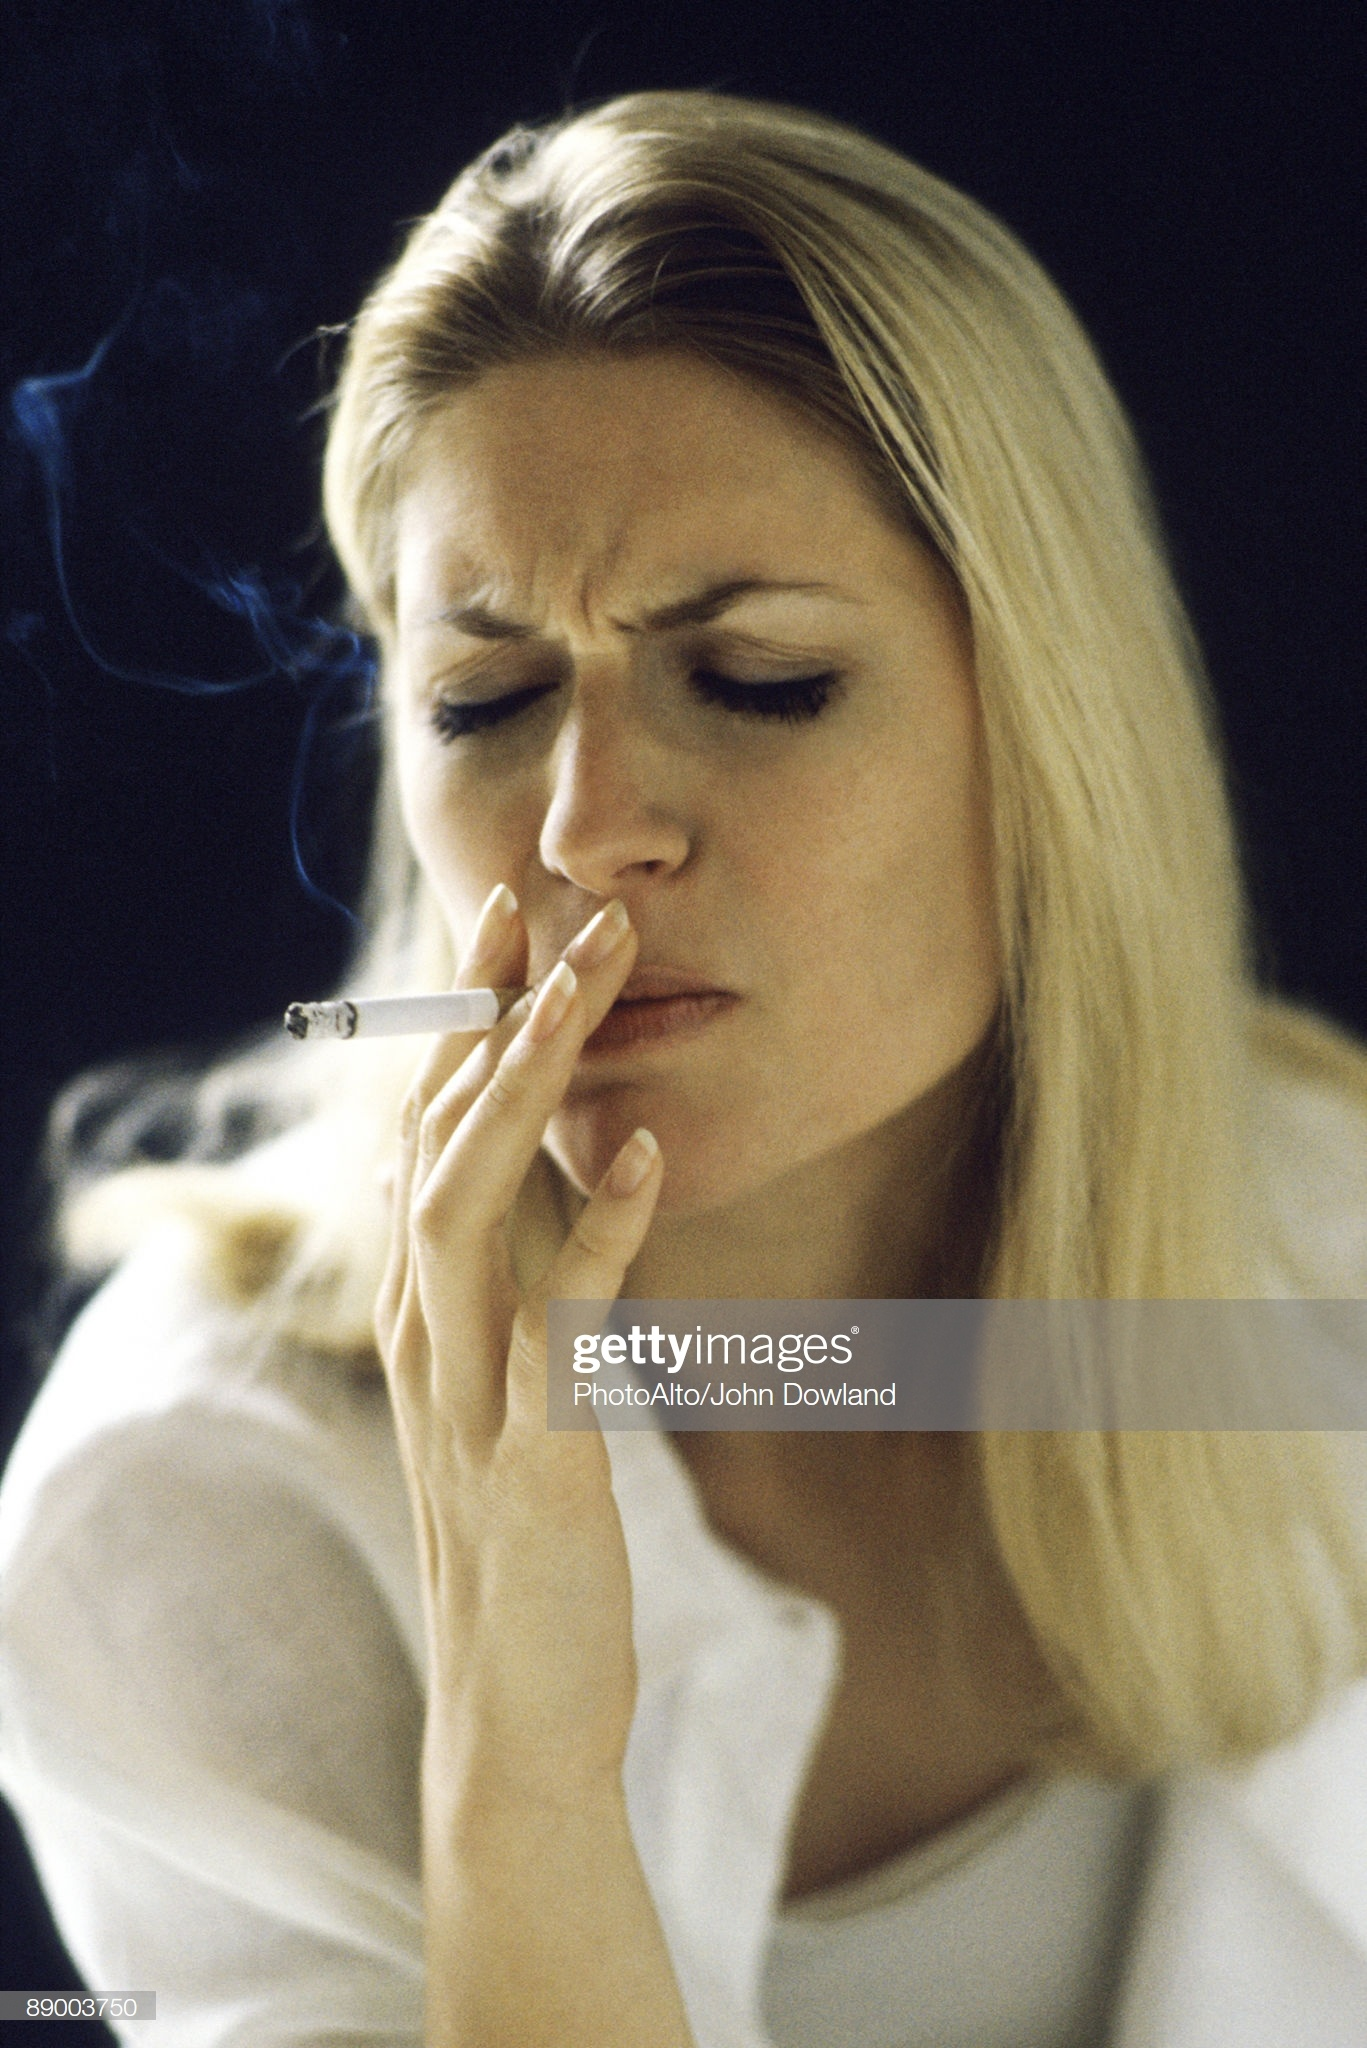sigaretta: (278, 955, 569, 1064)
